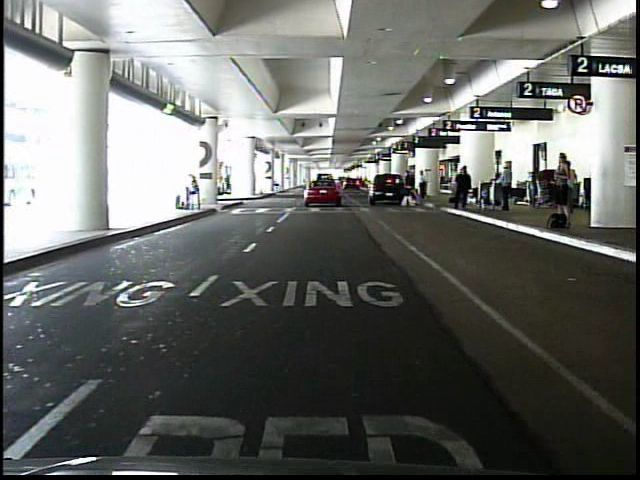person: (552, 150, 576, 214), (560, 162, 576, 212), (186, 173, 204, 215), (456, 165, 472, 210), (500, 163, 514, 212), (401, 167, 416, 208), (459, 164, 470, 203), (419, 169, 430, 200)
